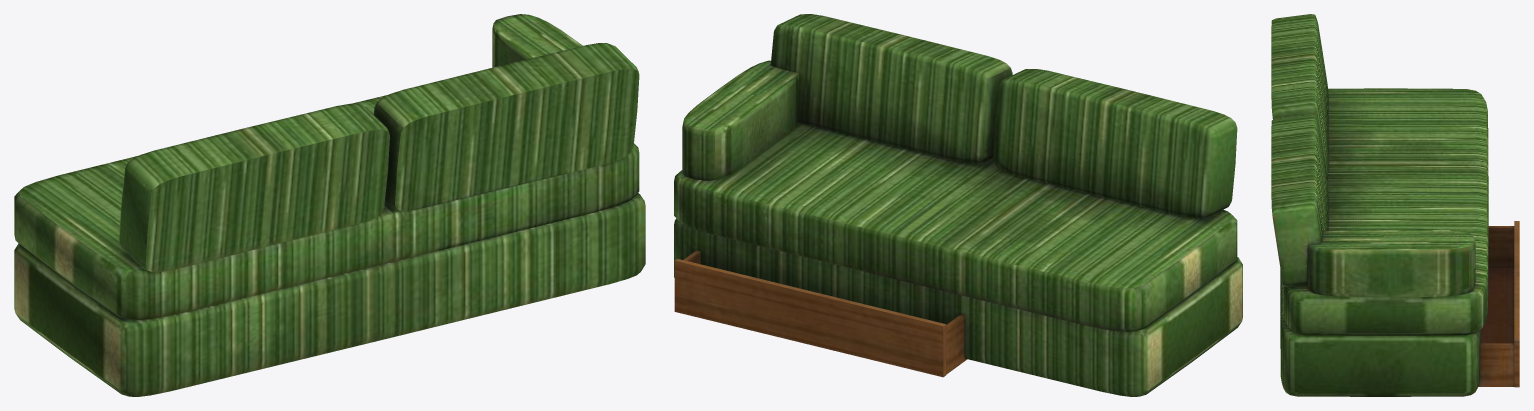
File: sofa_tahta_lod1_web.glb
3 views of the same model, side by side, from view 1: azimuth 30°, elevation 25°; view 2: azimuth 150°, elevation 25°; view 3: azimuth 270°, elevation 25° (orthographic). The views are drawn at different scales.
Visible parts, largest first — view 1: SofaTahta_Body; view 2: SofaTahta_Body, Drawer_Mesh; view 3: SofaTahta_Body, Drawer_Mesh.
Part boxes in pixels (<box>): SofaTahta_Body: <box>14,14,645,396</box>; SofaTahta_Body: <box>674,14,1242,396</box>; Drawer_Mesh: <box>674,250,967,377</box>; SofaTahta_Body: <box>1271,14,1488,396</box>; Drawer_Mesh: <box>1478,221,1519,387</box>.
Bounding box in the file's own units: 1.95 × 0.8059 × 0.9639.
1 material, 1 textured.
